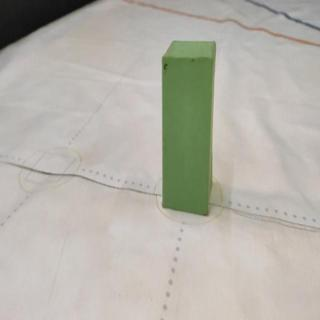greenbox: (161, 40, 217, 217)
